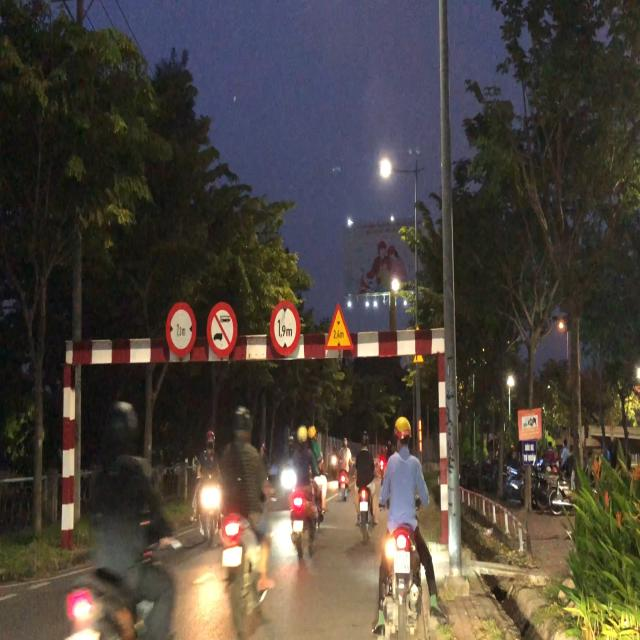Bien bao cam xe oto khach va xe oto tai: (207, 299, 240, 358)
Bien bao chieu cao tinh khong thuc te: (324, 300, 354, 356)
Bien bao han che chieu cao: (268, 295, 303, 361)
